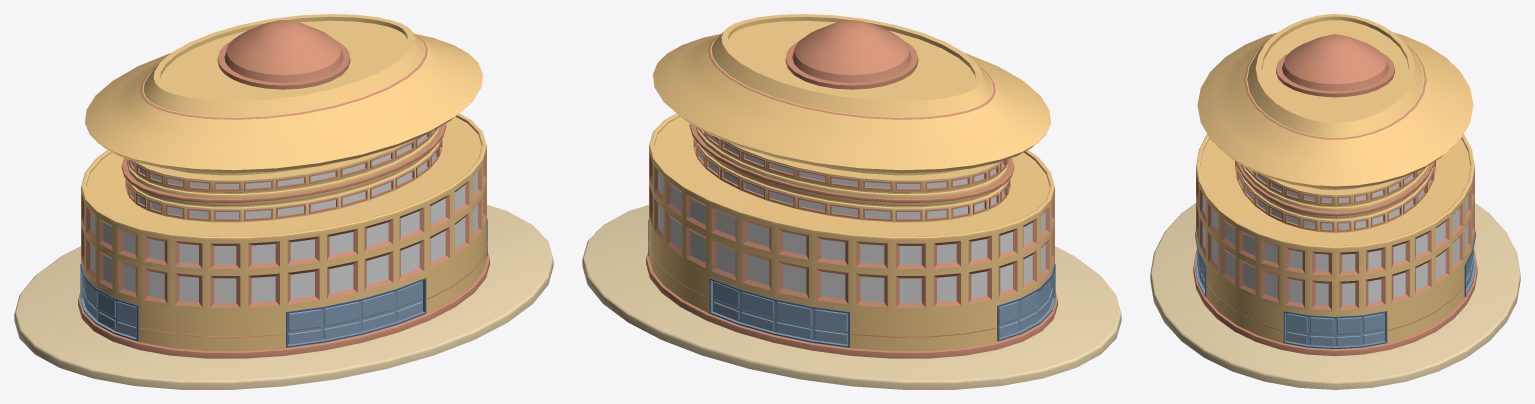
Rendered from commercial-building-concert-hall.fbx.
3 views of the same model, side by side, from view 1: azimuth 30°, elevation 25°; view 2: azimuth 150°, elevation 25°; view 3: azimuth 270°, elevation 25° (orthographic). The views are drawn at different scales.
Parts seen in each view (by area): view 1: commercial-building-convention/concert-hall; view 2: commercial-building-convention/concert-hall; view 3: commercial-building-convention/concert-hall.
Part boxes in pixels (x1=…): commercial-building-convention/concert-hall: x1=14, y1=14, x2=553, y2=389; commercial-building-convention/concert-hall: x1=582, y1=14, x2=1121, y2=389; commercial-building-convention/concert-hall: x1=1150, y1=14, x2=1520, y2=389.
Size of the model in its own units: 34.82 by 17.89 by 24.92.
